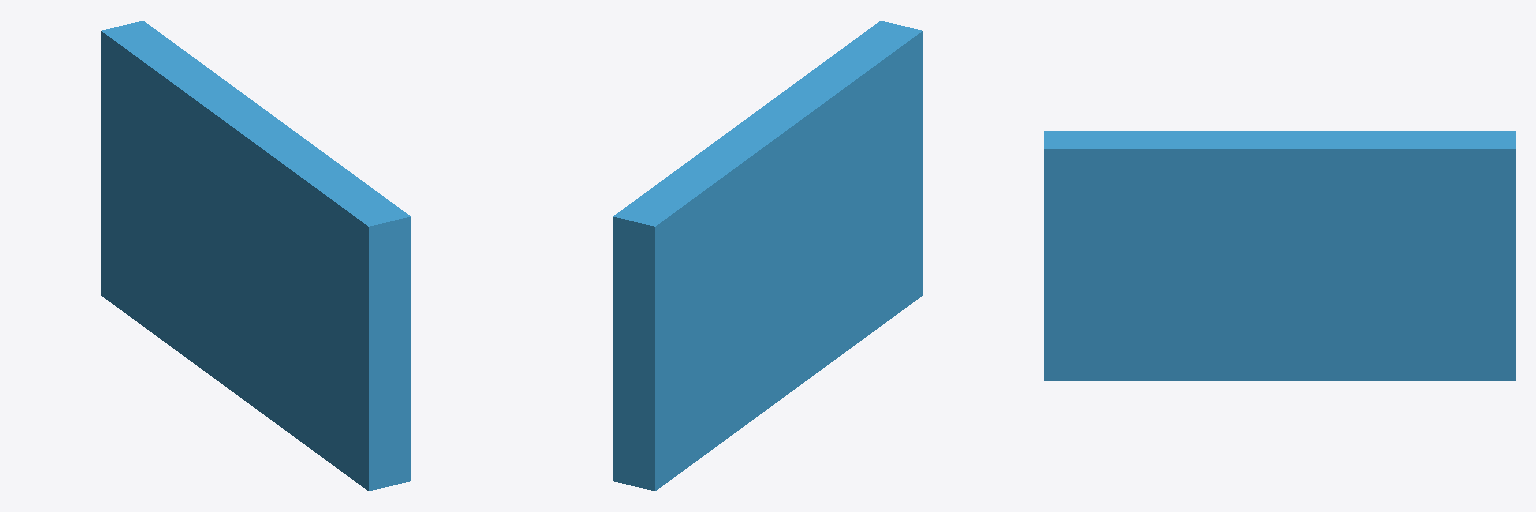
--- What the picture shows (computed from the rendered views, not written in the file) ---
Views: 3 orthographic renders of the robot side by side, from view 1: azimuth 30°, elevation 25°; view 2: azimuth 150°, elevation 25°; view 3: azimuth 270°, elevation 25°.
Robot: my_maze — 99 links, 98 joints (98 fixed); root link odom; default pose: all joints at 0.
Links seen in each view (by area): view 1: wall1; view 2: wall1; view 3: wall1.
Boxes of the visible links, x1,y1,x2,y2 form: wall1: [101, 21, 410, 490]; wall1: [613, 21, 922, 490]; wall1: [1044, 131, 1515, 380].
Bounding box of the posed robot: 0.05 × 0.55 × 0.3 m (x, y, z).
Geometry: primitives only (box / cylinder / sphere), no mesh files.

robot.urdf — my_maze:
<?xml version='1.0'?>
<robot name="my_maze">

	<link name="odom">
	</link>
	<material name="white">
		<color rgba="1 1 1 1"/>
	</material>
	<link name='wall1'>
		<visual name='collision'>
			<geometry>
				<box size="0.05 0.55 0.3"/>
			</geometry>
			<origin xyz="-2.25 -2.25 0.15" rpy="0 0 0"/>
		</visual>
		<collision name='collision'>
			<geometry>
				<box size="0.05 0.55 0.3"/>
			</geometry>
			<origin xyz="-2.25 -2.25 0.15" rpy="0 0 0"/>
			<material name="white"/>
		</collision>
	</link>	

	<link name='wall2'>
		<collision name='collision'>
			<geometry>
				<box size="0.05 0.55 0.3"/>
			</geometry>
			<origin xyz="-2 -2.5 0.15" rpy="0 0 1.57"/>
			<material name="white"/>
		</collision>
	</link>

	<link name='wall3'>
		<collision name='collision'>
			<geometry>
				<box size="0.05 0.55 0.3"/>
			</geometry>
			<origin xyz="-2.25 -1.75 0.15" rpy="0 0 0"/>
			<material name="white"/>
		</collision>
	</link>

	<link name='wall4'>
		<collision name='collision'>
			<geometry>
				<box size="0.05 0.55 0.3"/>
			</geometry>
			<origin xyz="-2.25 -1.25 0.15" rpy="0 0 0"/>
			<material name="white"/>
		</collision>
	</link>

	<link name='wall5'>
		<collision name='collision'>
			<geometry>
				<box size="0.05 0.55 0.3"/>
			</geometry>
			<origin xyz="-2.25 -0.75 0.15" rpy="0 0 0"/>
			<material name="white"/>
		</collision>
	</link>

	<link name='wall6'>
		<collision name='collision'>
			<geometry>
				<box size="0.05 0.55 0.3"/>
			</geometry>
			<origin xyz="-2 -1 0.15" rpy="0 0 1.57"/>
			<material name="white"/>
		</collision>
	</link>

	<link name='wall7'>
		<collision name='collision'>
			<geometry>
				<box size="0.05 0.55 0.3"/>
			</geometry>
			<origin xyz="-2.25 -0.25 0.15" rpy="0 0 0"/>
			<material name="white"/>
		</collision>
	</link>

	<link name='wall8'>
		<collision name='collision'>
			<geometry>
				<box size="0.05 0.55 0.3"/>
			</geometry>
			<origin xyz="-2.25 0.25 0.15" rpy="0 0 0"/>
			<material name="white"/>
		</collision>
	</link>

	<link name='wall9'>
		<collision name='collision'>
			<geometry>
				<box size="0.05 0.55 0.3"/>
			</geometry>
			<origin xyz="-2.25 0.75 0.15" rpy="0 0 0"/>
			<material name="white"/>
		</collision>
	</link>

	<link name='wall10'>
		<collision name='collision'>
			<geometry>
				<box size="0.05 0.55 0.3"/>
			</geometry>
			<origin xyz="-2 0.5 0.15" rpy="0 0 1.57"/>
			<material name="white"/>
		</collision>
	</link>

	<link name='wall11'>
		<collision name='collision'>
			<geometry>
				<box size="0.05 0.55 0.3"/>
			</geometry>
			<origin xyz="-2.25 1.25 0.15" rpy="0 0 0"/>
			<material name="white"/>
		</collision>
	</link>

	<link name='wall12'>
		<collision name='collision'>
			<geometry>
				<box size="0.05 0.55 0.3"/>
			</geometry>
			<origin xyz="-2.25 1.75 0.15" rpy="0 0 0"/>
			<material name="white"/>
		</collision>
	</link>

	<link name='wall13'>
		<collision name='collision'>
			<geometry>
				<box size="0.05 0.55 0.3"/>
			</geometry>
			<origin xyz="-2 2 0.15" rpy="0 0 1.57"/>
			<material name="white"/>
		</collision>
	</link>

	<link name='wall14'>
		<collision name='collision'>
			<geometry>
				<box size="0.05 0.55 0.3"/>
			</geometry>
			<origin xyz="-1.5 -2.5 0.15" rpy="0 0 1.57"/>
			<material name="white"/>
		</collision>
	</link>

	<link name='wall15'>
		<collision name='collision'>
			<geometry>
				<box size="0.05 0.55 0.3"/>
			</geometry>
			<origin xyz="-1.5 -2 0.15" rpy="0 0 1.57"/>
			<material name="white"/>
		</collision>
	</link>

	<link name='wall16'>
		<collision name='collision'>
			<geometry>
				<box size="0.05 0.55 0.3"/>
			</geometry>
			<origin xyz="-1.75 -1.25 0.15" rpy="0 0 0"/>
			<material name="white"/>
		</collision>
	</link>

	<link name='wall17'>
		<collision name='collision'>
			<geometry>
				<box size="0.05 0.55 0.3"/>
			</geometry>
			<origin xyz="-1.75 -0.25 0.15" rpy="0 0 0"/>
			<material name="white"/>
		</collision>
	</link>

	<link name='wall18'>
		<collision name='collision'>
			<geometry>
				<box size="0.05 0.55 0.3"/>
			</geometry>
			<origin xyz="-1.5 0 0.15" rpy="0 0 1.57"/>
			<material name="white"/>
		</collision>
	</link>

	<link name='wall19'>
		<collision name='collision'>
			<geometry>
				<box size="0.05 0.55 0.3"/>
			</geometry>
			<origin xyz="-1.5 0.5 0.15" rpy="0 0 1.57"/>
			<material name="white"/>
		</collision>
	</link>

	<link name='wall20'>
		<collision name='collision'>
			<geometry>
				<box size="0.05 0.55 0.3"/>
			</geometry>
			<origin xyz="-1.5 1 0.15" rpy="0 0 1.57"/>
			<material name="white"/>
		</collision>
	</link>

	<link name='wall21'>
		<collision name='collision'>
			<geometry>
				<box size="0.05 0.55 0.3"/>
			</geometry>
			<origin xyz="-1.5 2 0.15" rpy="0 0 1.57"/>
			<material name="white"/>
		</collision>
	</link>

	<link name='wall22'>
		<collision name='collision'>
			<geometry>
				<box size="0.05 0.55 0.3"/>
			</geometry>
			<origin xyz="-1 -2.5 0.15" rpy="0 0 1.57"/>
			<material name="white"/>
		</collision>
	</link>

	<link name='wall23'>
		<collision name='collision'>
			<geometry>
				<box size="0.05 0.55 0.3"/>
			</geometry>
			<origin xyz="-1.25 -1.75 0.15" rpy="0 0 0"/>
			<material name="white"/>
		</collision>
	</link>

	<link name='wall24'>
		<collision name='collision'>
			<geometry>
				<box size="0.05 0.55 0.3"/>
			</geometry>
			<origin xyz="-1 -2 0.15" rpy="0 0 1.57"/>
			<material name="white"/>
		</collision>
	</link>

	<link name='wall25'>
		<collision name='collision'>
			<geometry>
				<box size="0.05 0.55 0.3"/>
			</geometry>
			<origin xyz="-1.25 -0.75 0.15" rpy="0 0 0"/>
			<material name="white"/>
		</collision>
	</link>

	<link name='wall26'>
		<collision name='collision'>
			<geometry>
				<box size="0.05 0.55 0.3"/>
			</geometry>
			<origin xyz="-1 -1 0.15" rpy="0 0 1.57"/>
			<material name="white"/>
		</collision>
	</link>

	<link name='wall27'>
		<collision name='collision'>
			<geometry>
				<box size="0.05 0.55 0.3"/>
			</geometry>
			<origin xyz="-1 0 0.15" rpy="0 0 1.57"/>
			<material name="white"/>
		</collision>
	</link>

	<link name='wall28'>
		<collision name='collision'>
			<geometry>
				<box size="0.05 0.55 0.3"/>
			</geometry>
			<origin xyz="-1 0.5 0.15" rpy="0 0 1.57"/>
			<material name="white"/>
		</collision>
	</link>

	<link name='wall29'>
		<collision name='collision'>
			<geometry>
				<box size="0.05 0.55 0.3"/>
			</geometry>
			<origin xyz="-1.25 1.25 0.15" rpy="0 0 0"/>
			<material name="white"/>
		</collision>
	</link>

	<link name='wall30'>
		<collision name='collision'>
			<geometry>
				<box size="0.05 0.55 0.3"/>
			</geometry>
			<origin xyz="-1.25 1.75 0.15" rpy="0 0 0"/>
			<material name="white"/>
		</collision>
	</link>

	<link name='wall31'>
		<collision name='collision'>
			<geometry>
				<box size="0.05 0.55 0.3"/>
			</geometry>
			<origin xyz="-1 2 0.15" rpy="0 0 1.57"/>
			<material name="white"/>
		</collision>
	</link>

	<link name='wall32'>
		<collision name='collision'>
			<geometry>
				<box size="0.05 0.55 0.3"/>
			</geometry>
			<origin xyz="-0.5 -2.5 0.15" rpy="0 0 1.57"/>
			<material name="white"/>
		</collision>
	</link>

	<link name='wall33'>
		<collision name='collision'>
			<geometry>
				<box size="0.05 0.55 0.3"/>
			</geometry>
			<origin xyz="-0.75 -1.75 0.15" rpy="0 0 0"/>
			<material name="white"/>
		</collision>
	</link>

	<link name='wall34'>
		<collision name='collision'>
			<geometry>
				<box size="0.05 0.55 0.3"/>
			</geometry>
			<origin xyz="-0.5 -2 0.15" rpy="0 0 1.57"/>
			<material name="white"/>
		</collision>
	</link>

	<link name='wall35'>
		<collision name='collision'>
			<geometry>
				<box size="0.05 0.55 0.3"/>
			</geometry>
			<origin xyz="-0.75 -0.25 0.15" rpy="0 0 0"/>
			<material name="white"/>
		</collision>
	</link>

	<link name='wall36'>
		<collision name='collision'>
			<geometry>
				<box size="0.05 0.55 0.3"/>
			</geometry>
			<origin xyz="-0.5 -0.5 0.15" rpy="0 0 1.57"/>
			<material name="white"/>
		</collision>
	</link>

	<link name='wall37'>
		<collision name='collision'>
			<geometry>
				<box size="0.05 0.55 0.3"/>
			</geometry>
			<origin xyz="-0.75 0.25 0.15" rpy="0 0 0"/>
			<material name="white"/>
		</collision>
	</link>

	<link name='wall38'>
		<collision name='collision'>
			<geometry>
				<box size="0.05 0.55 0.3"/>
			</geometry>
			<origin xyz="-0.5 0 0.15" rpy="0 0 1.57"/>
			<material name="white"/>
		</collision>
	</link>

	<link name='wall39'>
		<collision name='collision'>
			<geometry>
				<box size="0.05 0.55 0.3"/>
			</geometry>
			<origin xyz="-0.75 0.75 0.15" rpy="0 0 0"/>
			<material name="white"/>
		</collision>
	</link>

	<link name='wall40'>
		<collision name='collision'>
			<geometry>
				<box size="0.05 0.55 0.3"/>
			</geometry>
			<origin xyz="-0.75 1.25 0.15" rpy="0 0 0"/>
			<material name="white"/>
		</collision>
	</link>

	<link name='wall41'>
		<collision name='collision'>
			<geometry>
				<box size="0.05 0.55 0.3"/>
			</geometry>
			<origin xyz="-0.5 1.5 0.15" rpy="0 0 1.57"/>
			<material name="white"/>
		</collision>
	</link>

	<link name='wall42'>
		<collision name='collision'>
			<geometry>
				<box size="0.05 0.55 0.3"/>
			</geometry>
			<origin xyz="-0.5 2 0.15" rpy="0 0 1.57"/>
			<material name="white"/>
		</collision>
	</link>

	<link name='wall43'>
		<collision name='collision'>
			<geometry>
				<box size="0.05 0.55 0.3"/>
			</geometry>
			<origin xyz="0 -2.5 0.15" rpy="0 0 1.57"/>
			<material name="white"/>
		</collision>
	</link>

	<link name='wall44'>
		<collision name='collision'>
			<geometry>
				<box size="0.05 0.55 0.3"/>
			</geometry>
			<origin xyz="-0.25 -1.75 0.15" rpy="0 0 0"/>
			<material name="white"/>
		</collision>
	</link>

	<link name='wall45'>
		<collision name='collision'>
			<geometry>
				<box size="0.05 0.55 0.3"/>
			</geometry>
			<origin xyz="0 -2 0.15" rpy="0 0 1.57"/>
			<material name="white"/>
		</collision>
	</link>

	<link name='wall46'>
		<collision name='collision'>
			<geometry>
				<box size="0.05 0.55 0.3"/>
			</geometry>
			<origin xyz="-0.25 -0.75 0.15" rpy="0 0 0"/>
			<material name="white"/>
		</collision>
	</link>

	<link name='wall47'>
		<collision name='collision'>
			<geometry>
				<box size="0.05 0.55 0.3"/>
			</geometry>
			<origin xyz="0 0 0.15" rpy="0 0 1.57"/>
			<material name="white"/>
		</collision>
	</link>

	<link name='wall48'>
		<collision name='collision'>
			<geometry>
				<box size="0.05 0.55 0.3"/>
			</geometry>
			<origin xyz="-0.25 0.75 0.15" rpy="0 0 0"/>
			<material name="white"/>
		</collision>
	</link>

	<link name='wall49'>
		<collision name='collision'>
			<geometry>
				<box size="0.05 0.55 0.3"/>
			</geometry>
			<origin xyz="0 0.5 0.15" rpy="0 0 1.57"/>
			<material name="white"/>
		</collision>
	</link>

	<link name='wall50'>
		<collision name='collision'>
			<geometry>
				<box size="0.05 0.55 0.3"/>
			</geometry>
			<origin xyz="0 2 0.15" rpy="0 0 1.57"/>
			<material name="white"/>
		</collision>
	</link>

	<link name='wall51'>
		<collision name='collision'>
			<geometry>
				<box size="0.05 0.55 0.3"/>
			</geometry>
			<origin xyz="0.5 -2.5 0.15" rpy="0 0 1.57"/>
			<material name="white"/>
		</collision>
	</link>

	<link name='wall52'>
		<collision name='collision'>
			<geometry>
				<box size="0.05 0.55 0.3"/>
			</geometry>
			<origin xyz="0.5 -2 0.15" rpy="0 0 1.57"/>
			<material name="white"/>
		</collision>
	</link>

	<link name='wall53'>
		<collision name='collision'>
			<geometry>
				<box size="0.05 0.55 0.3"/>
			</geometry>
			<origin xyz="0.5 -1.5 0.15" rpy="0 0 1.57"/>
			<material name="white"/>
		</collision>
	</link>

	<link name='wall54'>
		<collision name='collision'>
			<geometry>
				<box size="0.05 0.55 0.3"/>
			</geometry>
			<origin xyz="0.25 -0.75 0.15" rpy="0 0 0"/>
			<material name="white"/>
		</collision>
	</link>

	<link name='wall55'>
		<collision name='collision'>
			<geometry>
				<box size="0.05 0.55 0.3"/>
			</geometry>
			<origin xyz="0.5 -0.5 0.15" rpy="0 0 1.57"/>
			<material name="white"/>
		</collision>
	</link>

	<link name='wall56'>
		<collision name='collision'>
			<geometry>
				<box size="0.05 0.55 0.3"/>
			</geometry>
			<origin xyz="0.25 0.25 0.15" rpy="0 0 0"/>
			<material name="white"/>
		</collision>
	</link>

	<link name='wall57'>
		<collision name='collision'>
			<geometry>
				<box size="0.05 0.55 0.3"/>
			</geometry>
			<origin xyz="0.5 0 0.15" rpy="0 0 1.57"/>
			<material name="white"/>
		</collision>
	</link>

	<link name='wall58'>
		<collision name='collision'>
			<geometry>
				<box size="0.05 0.55 0.3"/>
			</geometry>
			<origin xyz="0.5 0.5 0.15" rpy="0 0 1.57"/>
			<material name="white"/>
		</collision>
	</link>

	<link name='wall59'>
		<collision name='collision'>
			<geometry>
				<box size="0.05 0.55 0.3"/>
			</geometry>
			<origin xyz="0.25 1.25 0.15" rpy="0 0 0"/>
			<material name="white"/>
		</collision>
	</link>

	<link name='wall60'>
		<collision name='collision'>
			<geometry>
				<box size="0.05 0.55 0.3"/>
			</geometry>
			<origin xyz="0.5 1 0.15" rpy="0 0 1.57"/>
			<material name="white"/>
		</collision>
	</link>

	<link name='wall61'>
		<collision name='collision'>
			<geometry>
				<box size="0.05 0.55 0.3"/>
			</geometry>
			<origin xyz="0.5 2 0.15" rpy="0 0 1.57"/>
			<material name="white"/>
		</collision>
	</link>

	<link name='wall62'>
		<collision name='collision'>
			<geometry>
				<box size="0.05 0.55 0.3"/>
			</geometry>
			<origin xyz="1 -2.5 0.15" rpy="0 0 1.57"/>
			<material name="white"/>
		</collision>
	</link>

	<link name='wall63'>
		<collision name='collision'>
			<geometry>
				<box size="0.05 0.55 0.3"/>
			</geometry>
			<origin xyz="1 -2 0.15" rpy="0 0 1.57"/>
			<material name="white"/>
		</collision>
	</link>

	<link name='wall64'>
		<collision name='collision'>
			<geometry>
				<box size="0.05 0.55 0.3"/>
			</geometry>
			<origin xyz="0.75 -1.25 0.15" rpy="0 0 0"/>
			<material name="white"/>
		</collision>
	</link>

	<link name='wall65'>
		<collision name='collision'>
			<geometry>
				<box size="0.05 0.55 0.3"/>
			</geometry>
			<origin xyz="1 -1.5 0.15" rpy="0 0 1.57"/>
			<material name="white"/>
		</collision>
	</link>

	<link name='wall66'>
		<collision name='collision'>
			<geometry>
				<box size="0.05 0.55 0.3"/>
			</geometry>
			<origin xyz="1 -1 0.15" rpy="0 0 1.57"/>
			<material name="white"/>
		</collision>
	</link>

	<link name='wall67'>
		<collision name='collision'>
			<geometry>
				<box size="0.05 0.55 0.3"/>
			</geometry>
			<origin xyz="0.75 -0.25 0.15" rpy="0 0 0"/>
			<material name="white"/>
		</collision>
	</link>

	<link name='wall68'>
		<collision name='collision'>
			<geometry>
				<box size="0.05 0.55 0.3"/>
			</geometry>
			<origin xyz="0.75 0.75 0.15" rpy="0 0 0"/>
			<material name="white"/>
		</collision>
	</link>

	<link name='wall69'>
		<collision name='collision'>
			<geometry>
				<box size="0.05 0.55 0.3"/>
			</geometry>
			<origin xyz="0.75 1.75 0.15" rpy="0 0 0"/>
			<material name="white"/>
		</collision>
	</link>

	<link name='wall70'>
		<collision name='collision'>
			<geometry>
				<box size="0.05 0.55 0.3"/>
			</geometry>
			<origin xyz="1 1.5 0.15" rpy="0 0 1.57"/>
			<material name="white"/>
		</collision>
	</link>

	<link name='wall71'>
		<collision name='collision'>
			<geometry>
				<box size="0.05 0.55 0.3"/>
			</geometry>
			<origin xyz="1 2 0.15" rpy="0 0 1.57"/>
			<material name="white"/>
		</collision>
	</link>

	<link name='wall72'>
		<collision name='collision'>
			<geometry>
				<box size="0.05 0.55 0.3"/>
			</geometry>
			<origin xyz="1.5 -2.5 0.15" rpy="0 0 1.57"/>
			<material name="white"/>
		</collision>
	</link>

	<link name='wall73'>
		<collision name='collision'>
			<geometry>
				<box size="0.05 0.55 0.3"/>
			</geometry>
			<origin xyz="1.5 -2 0.15" rpy="0 0 1.57"/>
			<material name="white"/>
		</collision>
	</link>

	<link name='wall74'>
		<collision name='collision'>
			<geometry>
				<box size="0.05 0.55 0.3"/>
			</geometry>
			<origin xyz="1.25 -0.75 0.15" rpy="0 0 0"/>
			<material name="white"/>
		</collision>
	</link>

	<link name='wall75'>
		<collision name='collision'>
			<geometry>
				<box size="0.05 0.55 0.3"/>
			</geometry>
			<origin xyz="1.25 -0.25 0.15" rpy="0 0 0"/>
			<material name="white"/>
		</collision>
	</link>

	<link name='wall76'>
		<collision name='collision'>
			<geometry>
				<box size="0.05 0.55 0.3"/>
			</geometry>
			<origin xyz="1.5 0 0.15" rpy="0 0 1.57"/>
			<material name="white"/>
		</collision>
	</link>

	<link name='wall77'>
		<collision name='collision'>
			<geometry>
				<box size="0.05 0.55 0.3"/>
			</geometry>
			<origin xyz="1.25 0.75 0.15" rpy="0 0 0"/>
			<material name="white"/>
		</collision>
	</link>

	<link name='wall78'>
		<collision name='collision'>
			<geometry>
				<box size="0.05 0.55 0.3"/>
			</geometry>
			<origin xyz="1.5 0.5 0.15" rpy="0 0 1.57"/>
			<material name="white"/>
		</collision>
	</link>

	<link name='wall79'>
		<collision name='collision'>
			<geometry>
				<box size="0.05 0.55 0.3"/>
			</geometry>
			<origin xyz="1.5 1 0.15" rpy="0 0 1.57"/>
			<material name="white"/>
		</collision>
	</link>

	<link name='wall80'>
		<collision name='collision'>
			<geometry>
				<box size="0.05 0.55 0.3"/>
			</geometry>
			<origin xyz="1.5 2 0.15" rpy="0 0 1.57"/>
			<material name="white"/>
		</collision>
	</link>

	<link name='wall81'>
		<collision name='collision'>
			<geometry>
				<box size="0.05 0.55 0.3"/>
			</geometry>
			<origin xyz="2 -2.5 0.15" rpy="0 0 1.57"/>
			<material name="white"/>
		</collision>
	</link>

	<link name='wall82'>
		<collision name='collision'>
			<geometry>
				<box size="0.05 0.55 0.3"/>
			</geometry>
			<origin xyz="2.25 -2.25 0.15" rpy="0 0 0"/>
			<material name="white"/>
		</collision>
	</link>

	<link name='wall83'>
		<collision name='collision'>
			<geometry>
				<box size="0.05 0.55 0.3"/>
			</geometry>
			<origin xyz="2 -2 0.15" rpy="0 0 1.57"/>
			<material name="white"/>
		</collision>
	</link>

	<link name='wall84'>
		<collision name='collision'>
			<geometry>
				<box size="0.05 0.55 0.3"/>
			</geometry>
			<origin xyz="2.25 -1.75 0.15" rpy="0 0 0"/>
			<material name="white"/>
		</collision>
	</link>

	<link name='wall85'>
		<collision name='collision'>
			<geometry>
				<box size="0.05 0.55 0.3"/>
			</geometry>
			<origin xyz="1.75 -1.25 0.15" rpy="0 0 0"/>
			<material name="white"/>
		</collision>
	</link>

	<link name='wall86'>
		<collision name='collision'>
			<geometry>
				<box size="0.05 0.55 0.3"/>
			</geometry>
			<origin xyz="2 -1.5 0.15" rpy="0 0 1.57"/>
			<material name="white"/>
		</collision>
	</link>

	<link name='wall87'>
		<collision name='collision'>
			<geometry>
				<box size="0.05 0.55 0.3"/>
			</geometry>
			<origin xyz="2.25 -1.25 0.15" rpy="0 0 0"/>
			<material name="white"/>
		</collision>
	</link>

	<link name='wall88'>
		<collision name='collision'>
			<geometry>
				<box size="0.05 0.55 0.3"/>
			</geometry>
			<origin xyz="1.75 -0.75 0.15" rpy="0 0 0"/>
			<material name="white"/>
		</collision>
	</link>

	<link name='wall89'>
		<collision name='collision'>
			<geometry>
				<box size="0.05 0.55 0.3"/>
			</geometry>
			<origin xyz="2.25 -0.75 0.15" rpy="0 0 0"/>
			<material name="white"/>
		</collision>
	</link>

	<link name='wall90'>
		<collision name='collision'>
			<geometry>
				<box size="0.05 0.55 0.3"/>
			</geometry>
			<origin xyz="1.75 -0.25 0.15" rpy="0 0 0"/>
			<material name="white"/>
		</collision>
	</link>

	<link name='wall91'>
		<collision name='collision'>
			<geometry>
				<box size="0.05 0.55 0.3"/>
			</geometry>
			<origin xyz="2.25 -0.25 0.15" rpy="0 0 0"/>
			<material name="white"/>
		</collision>
	</link>

	<link name='wall92'>
		<collision name='collision'>
			<geometry>
				<box size="0.05 0.55 0.3"/>
			</geometry>
			<origin xyz="2.25 0.25 0.15" rpy="0 0 0"/>
			<material name="white"/>
		</collision>
	</link>

	<link name='wall93'>
		<collision name='collision'>
			<geometry>
				<box size="0.05 0.55 0.3"/>
			</geometry>
			<origin xyz="2.25 0.75 0.15" rpy="0 0 0"/>
			<material name="white"/>
		</collision>
	</link>

	<link name='wall94'>
		<collision name='collision'>
			<geometry>
				<box size="0.05 0.55 0.3"/>
			</geometry>
			<origin xyz="1.75 1.25 0.15" rpy="0 0 0"/>
			<material name="white"/>
		</collision>
	</link>

	<link name='wall95'>
		<collision name='collision'>
			<geometry>
				<box size="0.05 0.55 0.3"/>
			</geometry>
			<origin xyz="2.25 1.25 0.15" rpy="0 0 0"/>
			<material name="white"/>
		</collision>
	</link>

	<link name='wall96'>
		<collision name='collision'>
			<geometry>
				<box size="0.05 0.55 0.3"/>
			</geometry>
			<origin xyz="2 1.5 0.15" rpy="0 0 1.57"/>
			<material name="white"/>
		</collision>
	</link>

	<link name='wall97'>
		<collision name='collision'>
			<geometry>
				<box size="0.05 0.55 0.3"/>
			</geometry>
			<origin xyz="2.25 1.75 0.15" rpy="0 0 0"/>
			<material name="white"/>
		</collision>
	</link>

	<link name='wall98'>
		<collision name='collision'>
			<geometry>
				<box size="0.05 0.55 0.3"/>
			</geometry>
			<origin xyz="2 2 0.15" rpy="0 0 1.57"/>
			<material name="white"/>
		</collision>
	</link>

	<joint name="walls_to_world1" type="fixed">
		<parent link="odom"/>
 	<child link="wall1"/>
 </joint>

	<joint name="walls_to_world2" type="fixed">
		<parent link="odom"/>
 	<child link="wall2"/>
 </joint>

	<joint name="walls_to_world3" type="fixed">
		<parent link="odom"/>
 	<child link="wall3"/>
 </joint>

	<joint name="walls_to_world4" type="fixed">
		<parent link="odom"/>
 	<child link="wall4"/>
 </joint>

	<joint name="walls_to_world5" type="fixed">
		<parent link="odom"/>
 	<child link="wall5"/>
 </joint>

	<joint name="walls_to_world6" type="fixed">
		<parent link="odom"/>
 	<child link="wall6"/>
 </joint>

	<joint name="walls_to_world7" type="fixed">
		<parent link="odom"/>
 	<child link="wall7"/>
 </joint>

	<joint name="walls_to_world8" type="fixed">
		<parent link="odom"/>
 	<child link="wall8"/>
 </joint>

	<joint name="walls_to_world9" type="fixed">
		<parent link="odom"/>
 	<child link="wall9"/>
 </joint>

	<joint name="walls_to_world10" type="fixed">
		<parent link="odom"/>
 	<child link="wall10"/>
 </joint>

	<joint name="walls_to_world11" type="fixed">
		<parent link="odom"/>
 	<child link="wall11"/>
 </joint>

	<joint name="walls_to_world12" type="fixed">
		<parent link="odom"/>
 	<child link="wall12"/>
 </joint>

	<joint name="walls_to_world13" type="fixed">
		<parent link="odom"/>
 	<child link="wall13"/>
 </joint>

	<joint name="walls_to_world14" type="fixed">
		<parent link="odom"/>
 	<child link="wall14"/>
 </joint>

	<joint name="walls_to_world15" type="fixed">
		<parent link="odom"/>
 	<child link="wall15"/>
 </joint>

	<joint name="walls_to_world16" type="fixed">
		<parent link="odom"/>
 	<child link="wall16"/>
 </joint>

	<joint name="walls_to_world17" type="fixed">
		<parent link="odom"/>
 	<child link="wall17"/>
 </joint>

	<joint name="walls_to_world18" type="fixed">
		<parent link="odom"/>
 	<child link="wall18"/>
 </joint>

	<joint name="walls_to_world19" type="fixed">
		<parent link="odom"/>
 	<child link="wall19"/>
 </joint>

	<joint name="walls_to_world20" type="fixed">
		<parent link="odom"/>
 	<child link="wall20"/>
 </joint>

	<joint name="walls_to_world21" type="fixed">
		<parent link="odom"/>
 	<child link="wall21"/>
 </joint>

	<joint name="walls_to_world22" type="fixed">
		<parent link="odom"/>
 	<child link="wall22"/>
 </joint>

	<joint name="walls_to_world23" type="fixed">
		<parent link="odom"/>
 	<child link="wall23"/>
 </joint>

	<joint name="walls_to_world24" type="fixed">
		<parent link="odom"/>
 	<child link="wall24"/>
 </joint>

	<joint name="walls_to_world25" type="fixed">
		<parent link="odom"/>
 	<child link="wall25"/>
 </joint>

	<joint name="walls_to_world26" type="fixed">
		<parent link="odom"/>
 	<child link="wall26"/>
 </joint>

	<joint name="walls_to_world27" type="fixed">
		<parent link="odom"/>
 	<child link="wall27"/>
 </joint>

	<joint name="walls_to_world28" type="fixed">
		<parent link="odom"/>
 	<child link="wall28"/>
 </joint>

	<joint name="walls_to_world29" type="fixed">
		<parent link="odom"/>
 	<child link="wall29"/>
 </joint>

	<joint name="walls_to_world30" type="fixed">
		<parent link="odom"/>
 	<child link="wall30"/>
 </joint>

	<joint name="walls_to_world31" type="fixed">
		<parent link="odom"/>
 	<child link="wall31"/>
 </joint>

	<joint name="walls_to_world32" type="fixed">
		<parent link="odom"/>
 	<child link="wall32"/>
 </joint>

	<joint name="walls_to_world33" type="fixed">
		<parent link="odom"/>
 	<child link="wall33"/>
 </joint>

	<joint name="walls_to_world34" type="fixed">
		<parent link="odom"/>
 	<child link="wall34"/>
 </joint>

	<joint name="walls_to_world35" type="fixed">
		<parent link="odom"/>
 	<child link="wall35"/>
 </joint>

	<joint name="walls_to_world36" type="fixed">
		<parent link="odom"/>
 	<child link="wall36"/>
 </joint>

	<joint name="walls_to_world37" type="fixed">
		<parent link="odom"/>
 	<child link="wall37"/>
 </joint>

	<joint name="walls_to_world38" type="fixed">
		<parent link="odom"/>
 	<child link="wall38"/>
 </joint>

	<joint name="walls_to_world39" type="fixed">
		<parent link="odom"/>
 	<child link="wall39"/>
 </joint>

	<joint name="walls_to_world40" type="fixed">
		<parent link="odom"/>
 	<child link="wall40"/>
 </joint>

	<joint name="walls_to_world41" type="fixed">
		<parent link="odom"/>
 	<child link="wall41"/>
 </joint>

	<joint name="walls_to_world42" type="fixed">
		<parent link="odom"/>
 	<child link="wall42"/>
 </joint>

	<joint name="walls_to_world43" type="fixed">
		<parent link="odom"/>
 	<child link="wall43"/>
 </joint>

	<joint name="walls_to_world44" type="fixed">
		<parent link="odom"/>
 	<child link="wall44"/>
 </joint>

	<joint name="walls_to_world45" type="fixed">
		<parent link="odom"/>
 	<child link="wall45"/>
 </joint>

	<joint name="walls_to_world46" type="fixed">
		<parent link="odom"/>
 	<child link="wall46"/>
 </joint>

	<joint name="walls_to_world47" type="fixed">
		<parent link="odom"/>
 	<child link="wall47"/>
 </joint>

	<joint name="walls_to_world48" type="fixed">
		<parent link="odom"/>
 	<child link="wall48"/>
 </joint>

	<joint name="walls_to_world49" type="fixed">
		<parent link="odom"/>
 	<child link="wall49"/>
 </joint>

	<joint name="walls_to_world50" type="fixed">
		<parent link="odom"/>
 	<child link="wall50"/>
 </joint>

	<joint name="walls_to_world51" type="fixed">
		<parent link="odom"/>
 	<child link="wall51"/>
 </joint>

	<joint name="walls_to_world52" type="fixed">
		<parent link="odom"/>
 	<child link="wall52"/>
 </joint>

	<joint name="walls_to_world53" type="fixed">
		<parent link="odom"/>
 	<child link="wall53"/>
 </joint>

	<joint name="walls_to_world54" type="fixed">
		<parent link="odom"/>
 	<child link="wall54"/>
 </joint>

	<joint name="walls_to_world55" type="fixed">
		<parent link="odom"/>
 	<child link="wall55"/>
 </joint>

	<joint name="walls_to_world56" type="fixed">
		<parent link="odom"/>
 	<child link="wall56"/>
 </joint>

	<joint name="walls_to_world57" type="fixed">
		<parent link="odom"/>
 	<child link="wall57"/>
 </joint>

	<joint name="walls_to_world58" type="fixed">
		<parent link="odom"/>
 	<child link="wall58"/>
 </joint>

	<joint name="walls_to_world59" type="fixed">
		<parent link="odom"/>
 	<child link="wall59"/>
 </joint>

	<joint name="walls_to_world60" type="fixed">
		<parent link="odom"/>
 	<child link="wall60"/>
 </joint>

	<joint name="walls_to_world61" type="fixed">
		<parent link="odom"/>
 	<child link="wall61"/>
 </joint>

	<joint name="walls_to_world62" type="fixed">
		<parent link="odom"/>
 	<child link="wall62"/>
 </joint>

	<joint name="walls_to_world63" type="fixed">
		<parent link="odom"/>
 	<child link="wall63"/>
 </joint>

	<joint name="walls_to_world64" type="fixed">
		<parent link="odom"/>
 	<child link="wall64"/>
 </joint>

	<joint name="walls_to_world65" type="fixed">
		<parent link="odom"/>
 	<child link="wall65"/>
 </joint>

	<joint name="walls_to_world66" type="fixed">
		<parent link="odom"/>
 	<child link="wall66"/>
 </joint>

	<joint name="walls_to_world67" type="fixed">
		<parent link="odom"/>
 	<child link="wall67"/>
 </joint>

	<joint name="walls_to_world68" type="fixed">
		<parent link="odom"/>
 	<child link="wall68"/>
 </joint>

	<joint name="walls_to_world69" type="fixed">
		<parent link="odom"/>
 	<child link="wall69"/>
 </joint>

	<joint name="walls_to_world70" type="fixed">
		<parent link="odom"/>
 	<child link="wall70"/>
 </joint>

	<joint name="walls_to_world71" type="fixed">
		<parent link="odom"/>
 	<child link="wall71"/>
 </joint>

	<joint name="walls_to_world72" type="fixed">
		<parent link="odom"/>
 	<child link="wall72"/>
 </joint>

	<joint name="walls_to_world73" type="fixed">
		<parent link="odom"/>
 	<child link="wall73"/>
 </joint>

	<joint name="walls_to_world74" type="fixed">
		<parent link="odom"/>
 	<child link="wall74"/>
 </joint>

	<joint name="walls_to_world75" type="fixed">
		<parent link="odom"/>
 	<child link="wall75"/>
 </joint>

	<joint name="walls_to_world76" type="fixed">
		<parent link="odom"/>
 	<child link="wall76"/>
 </joint>

	<joint name="walls_to_world77" type="fixed">
		<parent link="odom"/>
 	<child link="wall77"/>
 </joint>

	<joint name="walls_to_world78" type="fixed">
		<parent link="odom"/>
 	<child link="wall78"/>
 </joint>

	<joint name="walls_to_world79" type="fixed">
		<parent link="odom"/>
 	<child link="wall79"/>
 </joint>

	<joint name="walls_to_world80" type="fixed">
		<parent link="odom"/>
 	<child link="wall80"/>
 </joint>

	<joint name="walls_to_world81" type="fixed">
		<parent link="odom"/>
 	<child link="wall81"/>
 </joint>

	<joint name="walls_to_world82" type="fixed">
		<parent link="odom"/>
 	<child link="wall82"/>
 </joint>

	<joint name="walls_to_world83" type="fixed">
		<parent link="odom"/>
 	<child link="wall83"/>
 </joint>

	<joint name="walls_to_world84" type="fixed">
		<parent link="odom"/>
 	<child link="wall84"/>
 </joint>

	<joint name="walls_to_world85" type="fixed">
		<parent link="odom"/>
 	<child link="wall85"/>
 </joint>

	<joint name="walls_to_world86" type="fixed">
		<parent link="odom"/>
 	<child link="wall86"/>
 </joint>

	<joint name="walls_to_world87" type="fixed">
		<parent link="odom"/>
 	<child link="wall87"/>
 </joint>

	<joint name="walls_to_world88" type="fixed">
		<parent link="odom"/>
 	<child link="wall88"/>
 </joint>

	<joint name="walls_to_world89" type="fixed">
		<parent link="odom"/>
 	<child link="wall89"/>
 </joint>

	<joint name="walls_to_world90" type="fixed">
		<parent link="odom"/>
 	<child link="wall90"/>
 </joint>

	<joint name="walls_to_world91" type="fixed">
		<parent link="odom"/>
 	<child link="wall91"/>
 </joint>

	<joint name="walls_to_world92" type="fixed">
		<parent link="odom"/>
 	<child link="wall92"/>
 </joint>

	<joint name="walls_to_world93" type="fixed">
		<parent link="odom"/>
 	<child link="wall93"/>
 </joint>

	<joint name="walls_to_world94" type="fixed">
		<parent link="odom"/>
 	<child link="wall94"/>
 </joint>

	<joint name="walls_to_world95" type="fixed">
		<parent link="odom"/>
 	<child link="wall95"/>
 </joint>

	<joint name="walls_to_world96" type="fixed">
		<parent link="odom"/>
 	<child link="wall96"/>
 </joint>

	<joint name="walls_to_world97" type="fixed">
		<parent link="odom"/>
 	<child link="wall97"/>
 </joint>

	<joint name="walls_to_world98" type="fixed">
		<parent link="odom"/>
 	<child link="wall98"/>
 </joint>

</robot>
